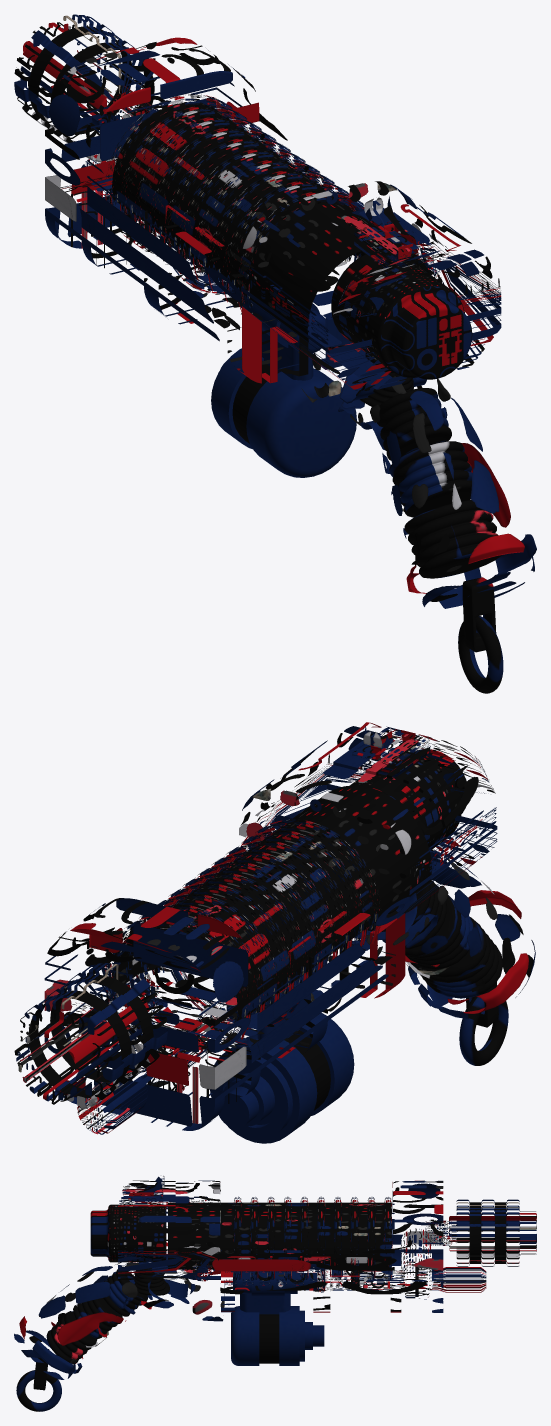
File: Gun.fbx
The picture shows the model from 3 angles, top to bottom: view 1: azimuth 30°, elevation 25°; view 2: azimuth 150°, elevation 25°; view 3: azimuth 270°, elevation 25°; orthographic projection. The views are drawn at different scales.
Visible parts, largest first — view 1: Cube, Cylinder, polySurface9.002, Cylinder.005, Torus.009, Cylinder.006, Cylinder.004, Cube.005, polySurface9.003; view 2: Cube, Cylinder, polySurface9.002, Cylinder.004, Torus.009, Cylinder.005, Cylinder.006, Cylinder.002, Cube.005, polySurface9.003; view 3: Cube, Cylinder, polySurface9.002, Cylinder.005, Cylinder.004, Cylinder.006, Torus.009, Cylinder.002, Cube.005, polySurface9.003.
Part boxes in pixels (x1,y1,x2,y2): Cube: (45,37,501,390); Cylinder: (112,102,428,341); polySurface9.002: (301,312,536,693); Cylinder.005: (211,290,356,477); Torus.009: (105,94,374,313); Cylinder.006: (331,250,472,379); Cylinder.004: (14,14,168,162); Cube.005: (354,220,433,269); polySurface9.003: (364,196,416,259); Cube: (44,722,497,1130); Cylinder: (111,785,431,1020); polySurface9.002: (311,850,535,1065); Cylinder.004: (14,963,167,1109); Torus.009: (105,819,380,1039); Cylinder.005: (210,958,354,1143); Cylinder.006: (349,749,466,849); Cylinder.002: (77,995,254,1134); Cube.005: (352,727,430,777); polySurface9.003: (363,725,415,764); Cube: (118,1180,443,1312); Cylinder: (168,1202,391,1269); polySurface9.002: (14,1262,224,1411); Cylinder.005: (231,1271,324,1365); Cylinder.004: (425,1199,536,1266); Cylinder.006: (90,1204,166,1262); Torus.009: (233,1196,391,1292); Cylinder.002: (317,1261,486,1299); Cube.005: (121,1185,163,1205); polySurface9.003: (125,1175,164,1199).
Bounding box in the file's own units: 59.6 × 134 × 267.
